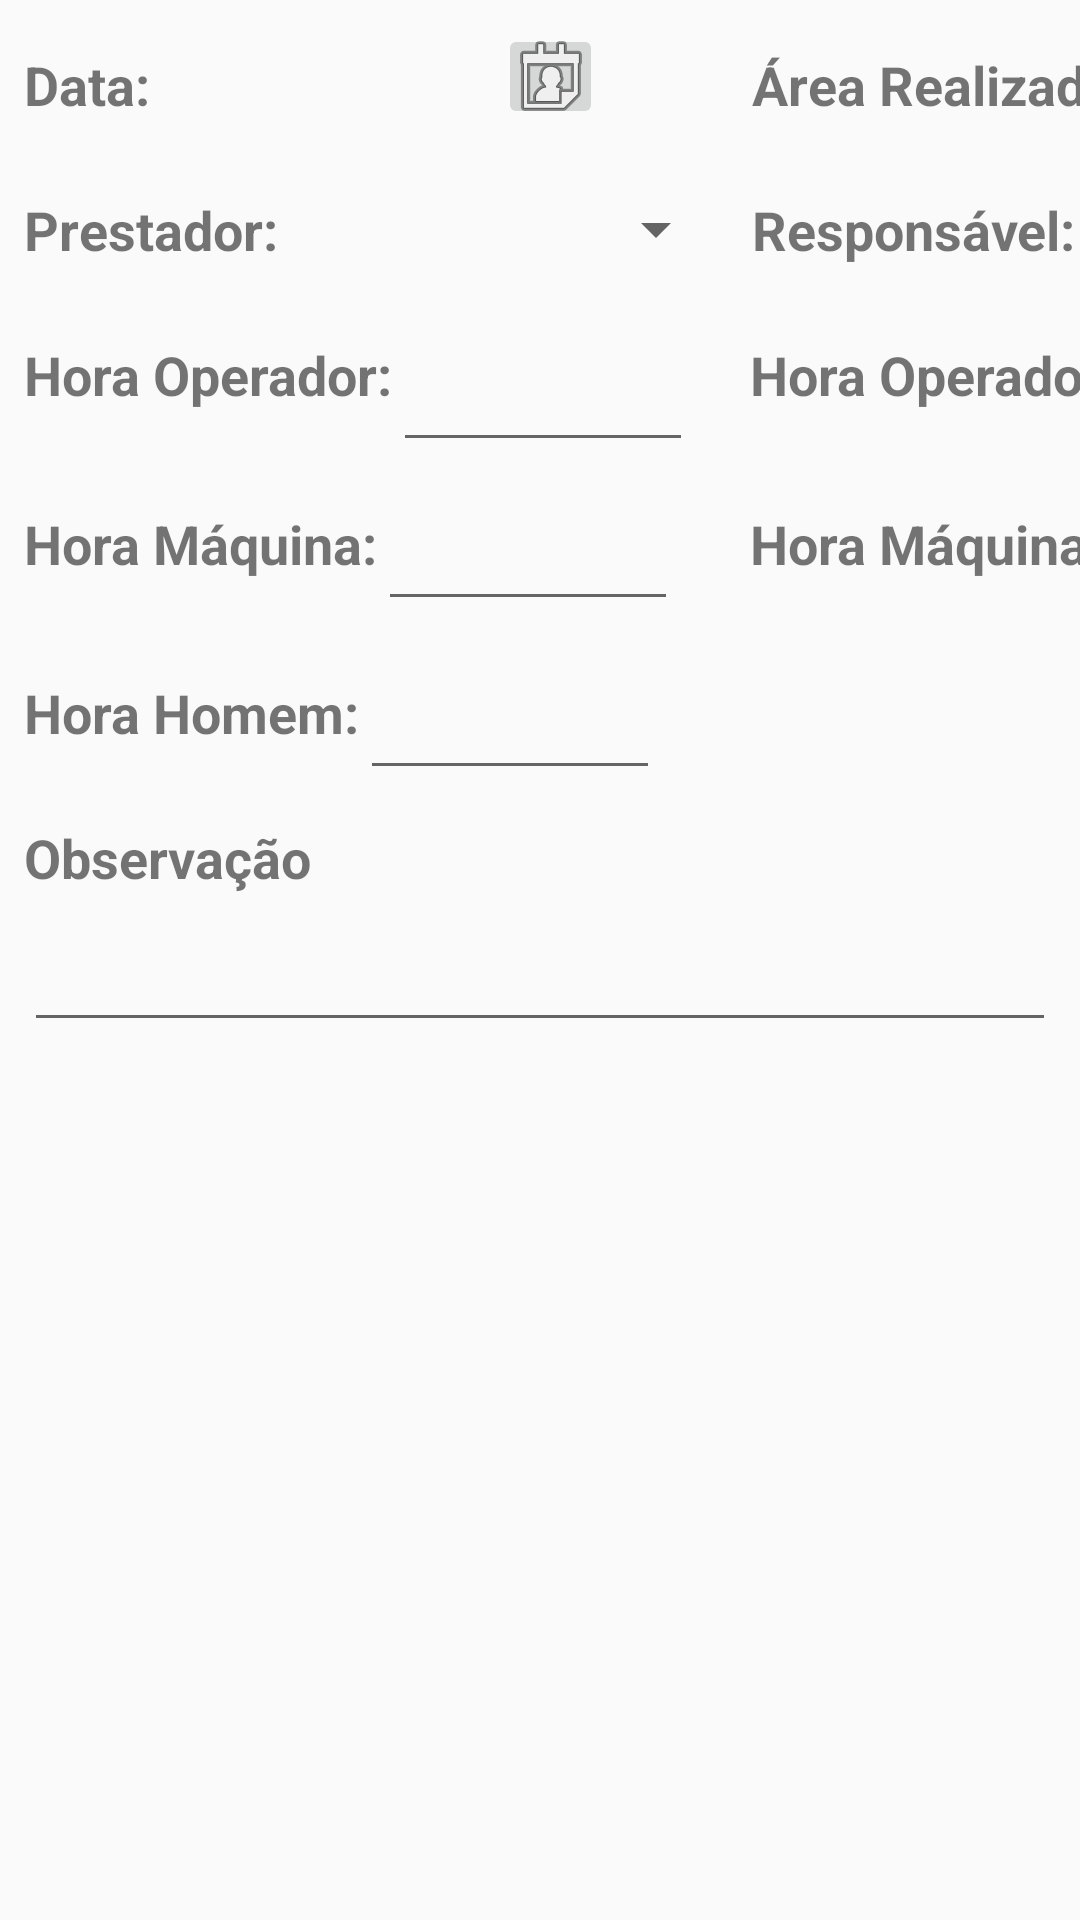

Screen size 1080*1920. Icon name, then its center in pixels as point (x, y):
calendar: point (550, 76)
